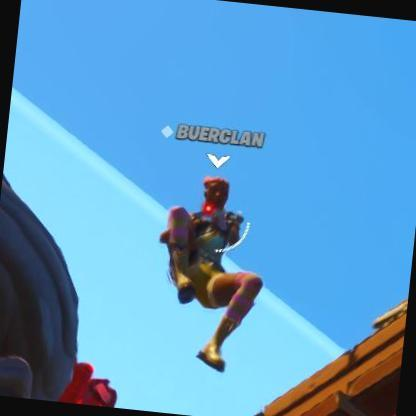person: (168, 170, 247, 318)
